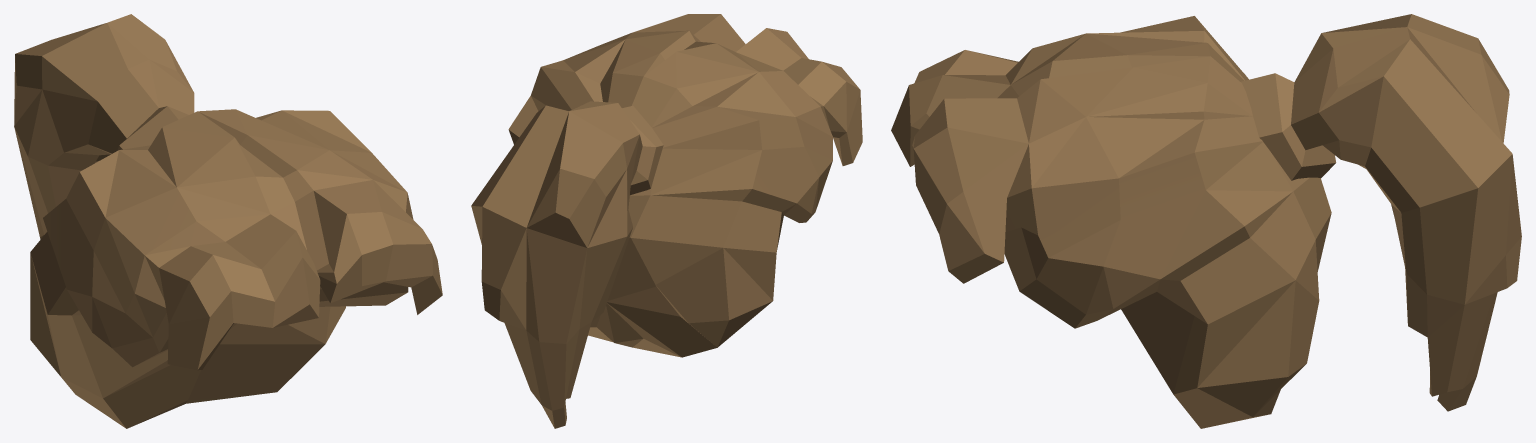
File: shops-ponytail-01.glb
The picture shows the model from 3 angles, left to right: view 1: azimuth 30°, elevation 25°; view 2: azimuth 150°, elevation 25°; view 3: azimuth 270°, elevation 25°; orthographic projection. The views are drawn at different scales.
Parts seen in each view (by area): view 1: shops-ponytail-01; view 2: shops-ponytail-01; view 3: shops-ponytail-01.
Boxes of the visible parts, bbox=[...] form: shops-ponytail-01: bbox=[14, 14, 442, 428]; shops-ponytail-01: bbox=[471, 14, 862, 428]; shops-ponytail-01: bbox=[891, 14, 1521, 428].
Bounding box in the file's own units: 0.2593 × 0.2791 × 0.4126.
